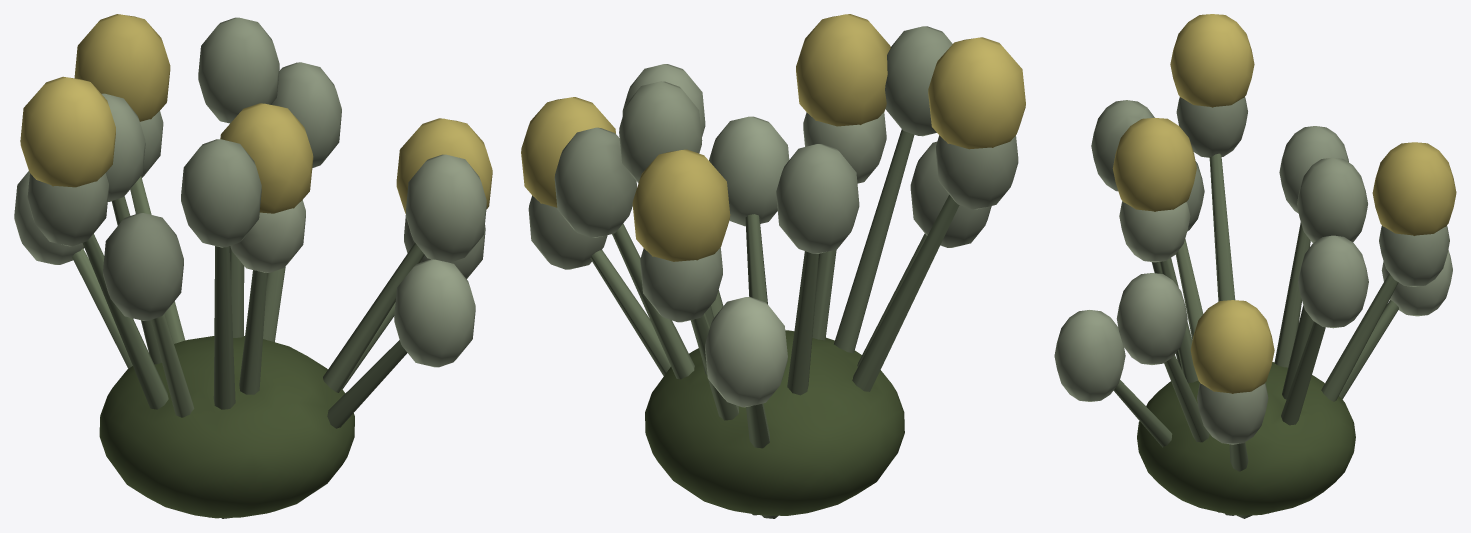
The model's file is rabbitbrush_a.glb.
3 renders of one model, left to right at view 1: azimuth 30°, elevation 25°; view 2: azimuth 150°, elevation 25°; view 3: azimuth 270°, elevation 25°, orthographic. The views are drawn at different scales.
Visible parts, largest first — view 1: Surface; view 2: Surface; view 3: Surface.
Boxes of the visible parts, x1=… form: Surface: x1=14, y1=14, x2=492, y2=518; Surface: x1=521, y1=14, x2=1025, y2=518; Surface: x1=1054, y1=14, x2=1456, y2=518.
Size of the model in its own units: 1.77 by 1.74 by 1.53.
